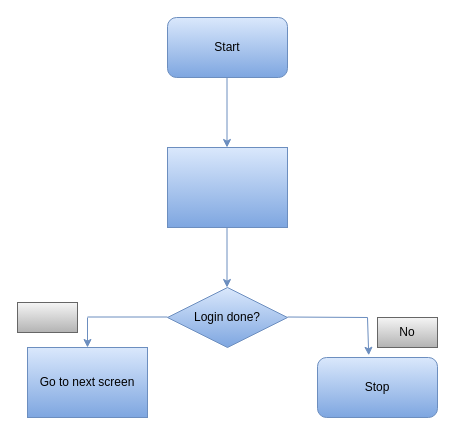
This 455x435 diagram has some shape labels left out. The centre of each missing label's shape, as x and y in pixels:
Enter user id and password: (227,187)
yes: (47,317)
